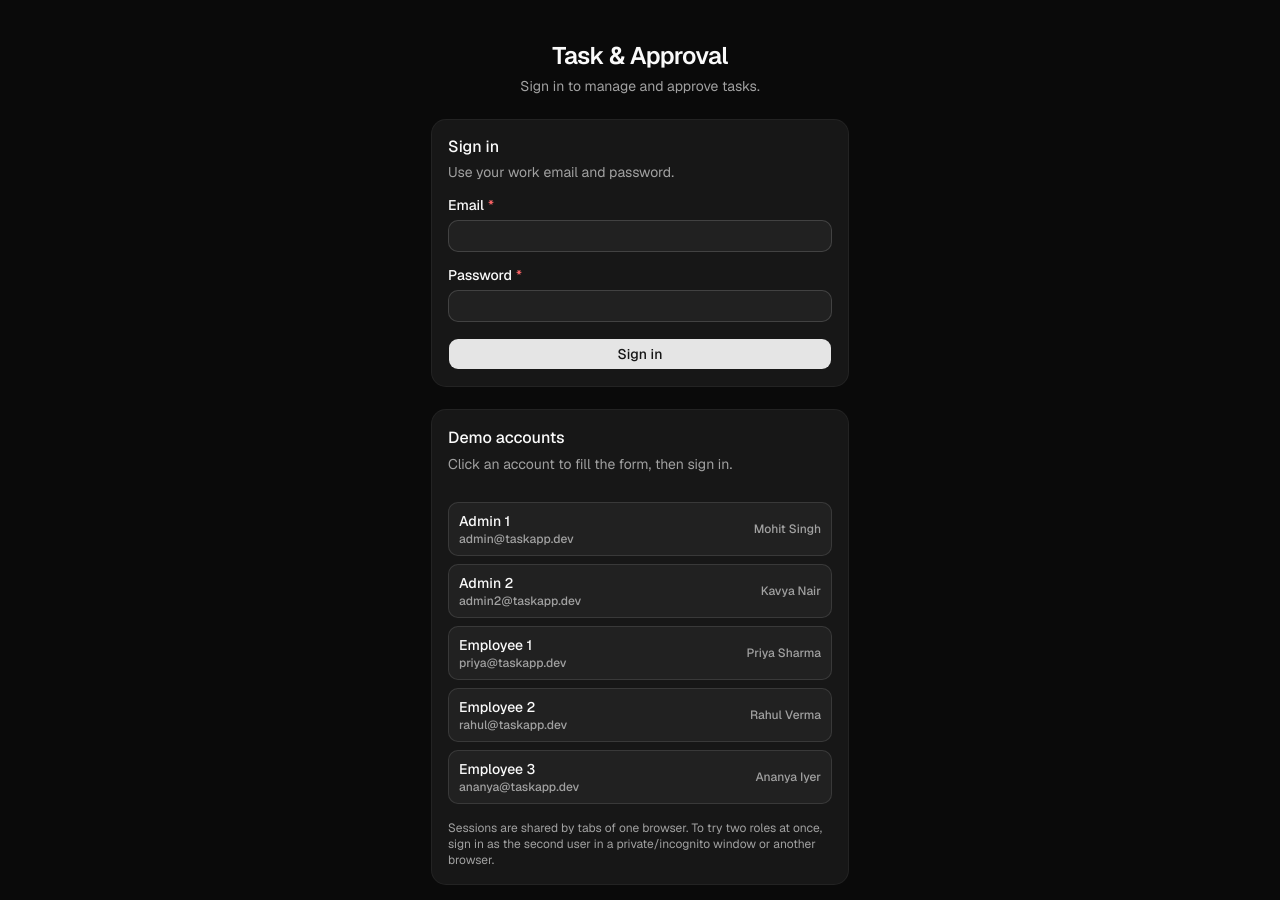
it: LoginPage › navigates to /dashboard after a successful login
Step 1. Click the button "Admin 1 admin@taskapp.dev Mohit Singh" → (485, 521), box [448,502,832,556]
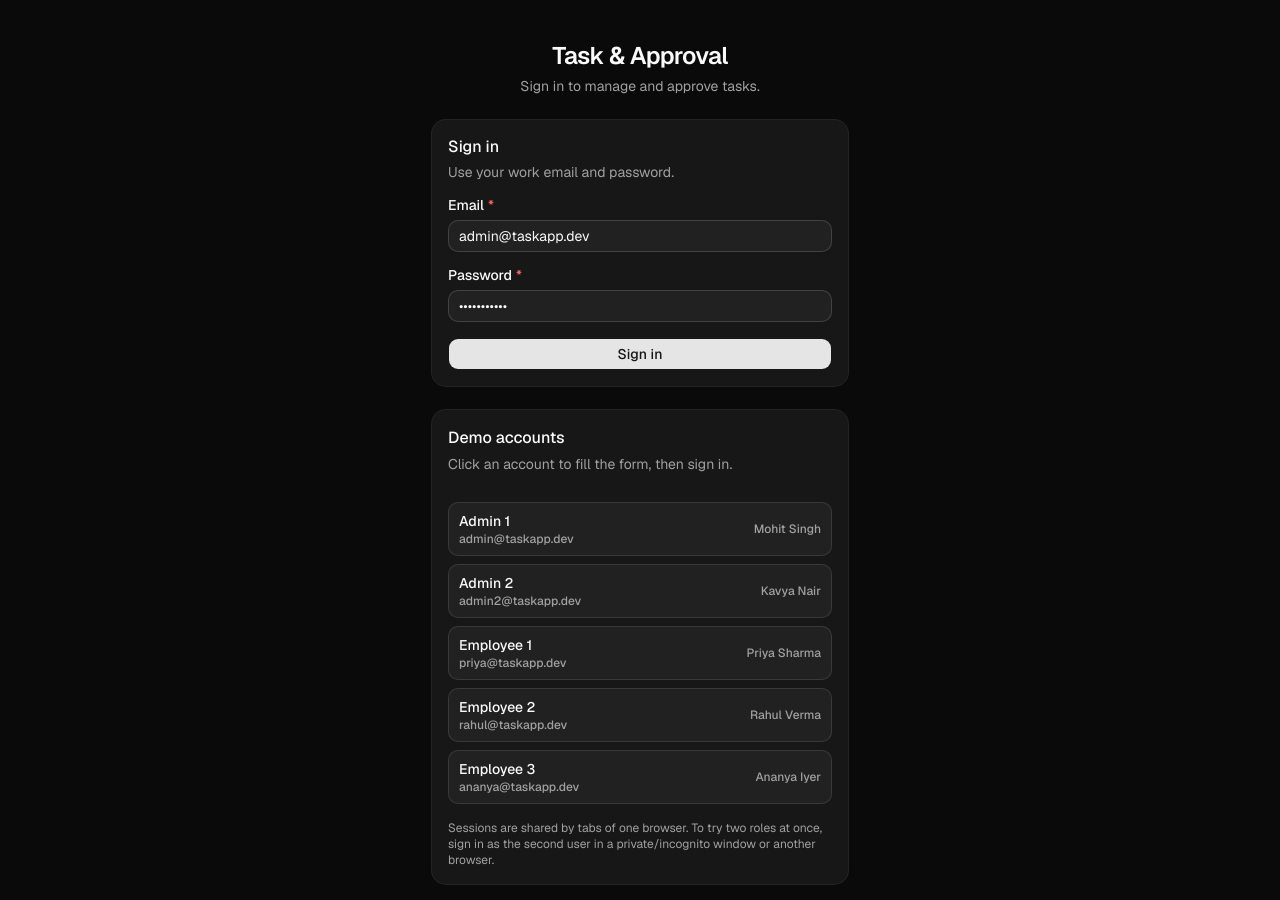
Step 2. Click the button "Sign in" → (640, 354), box [448,338,832,370]
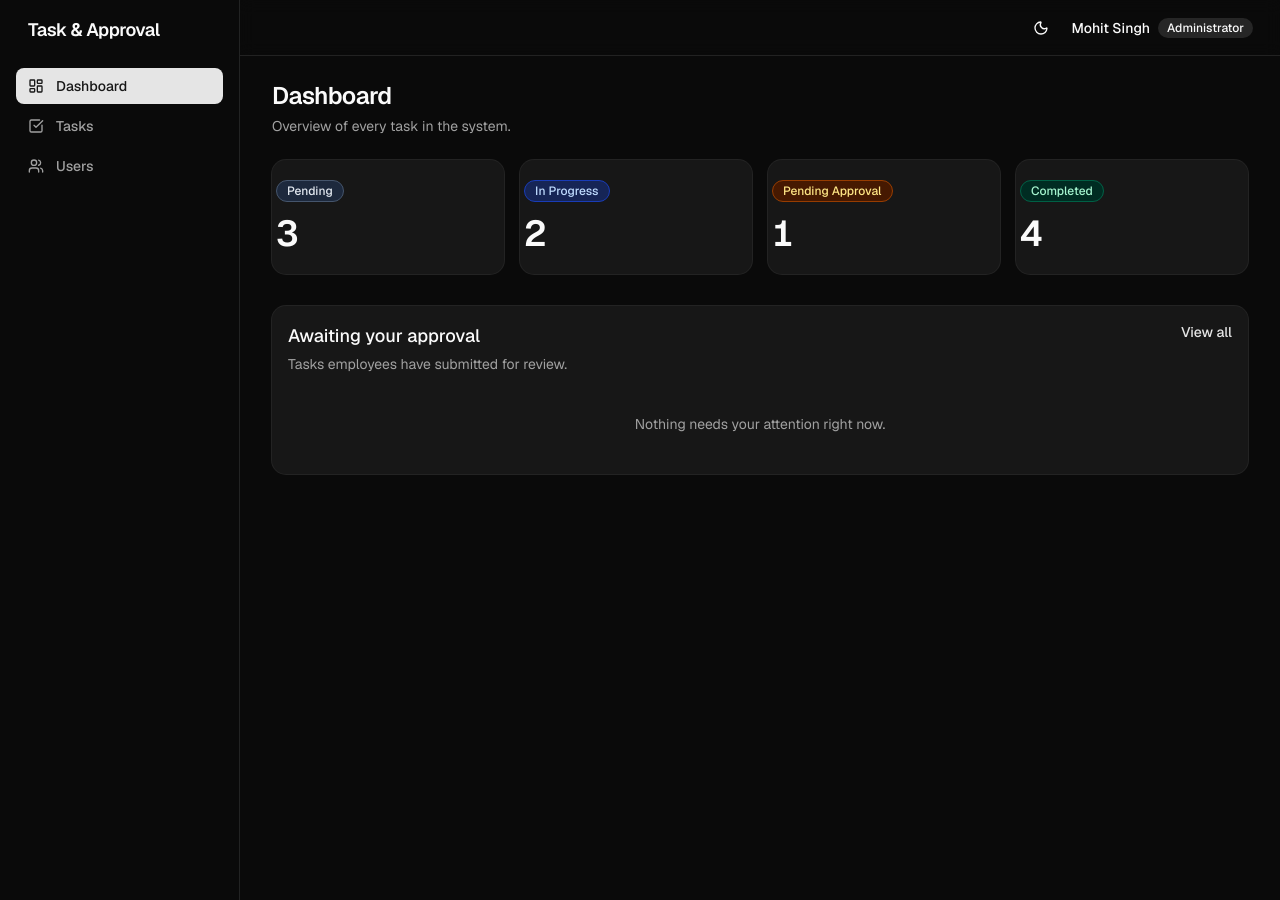
expect the heading "Dashboard" is shown: met, box [272,80,392,111]
